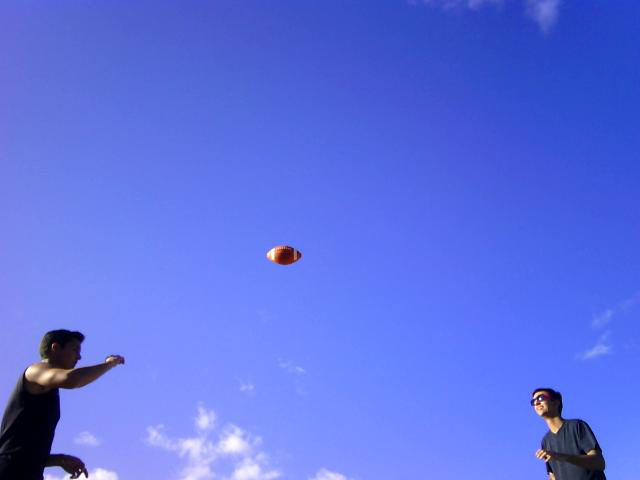football: (265, 241, 309, 265)
